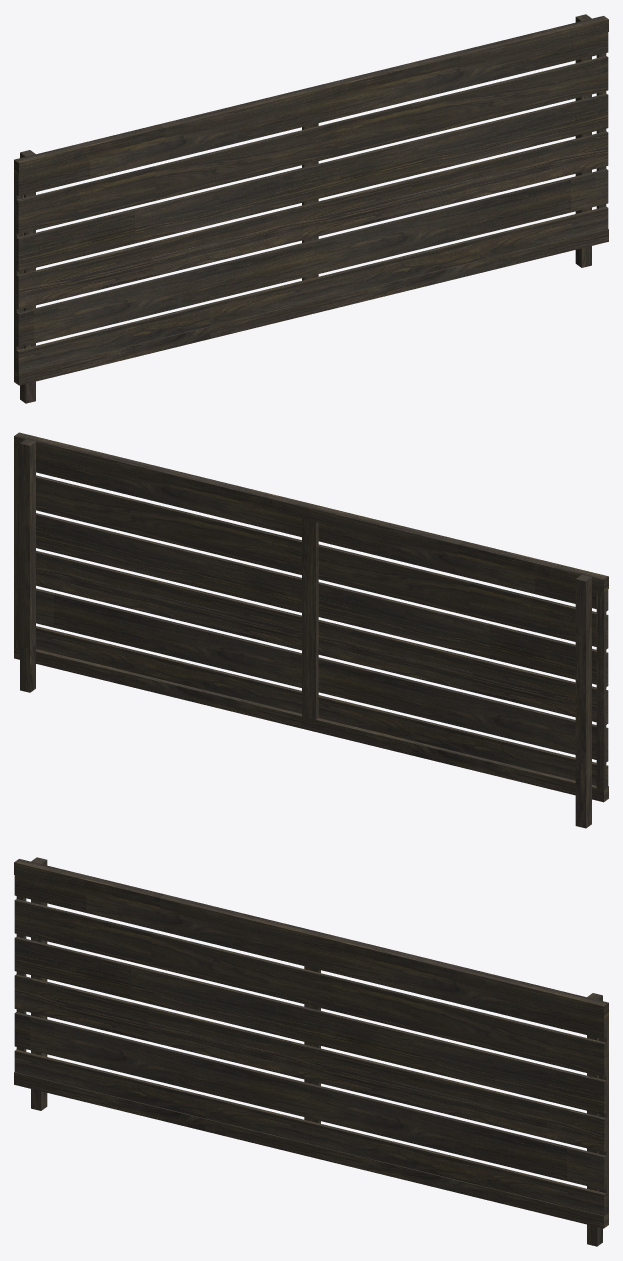
Rendered from everartfencekabenashi_720-1998_blackebony.fbx.
3 views of the same model, one above another, from view 1: azimuth 30°, elevation 25°; view 2: azimuth 150°, elevation 25°; view 3: azimuth 330°, elevation 25° (orthographic).
Visible parts, largest first — view 1: everartfencekabenashi_720-1998_blackebony; view 2: everartfencekabenashi_720-1998_blackebony; view 3: everartfencekabenashi_720-1998_blackebony.
Part boxes in pixels (<box>): everartfencekabenashi_720-1998_blackebony: <box>14,14,608,403</box>; everartfencekabenashi_720-1998_blackebony: <box>14,432,608,828</box>; everartfencekabenashi_720-1998_blackebony: <box>14,857,608,1246</box>.
Bounding box in the file's own units: 200 × 80 × 6.5.
1 material, 1 textured.
